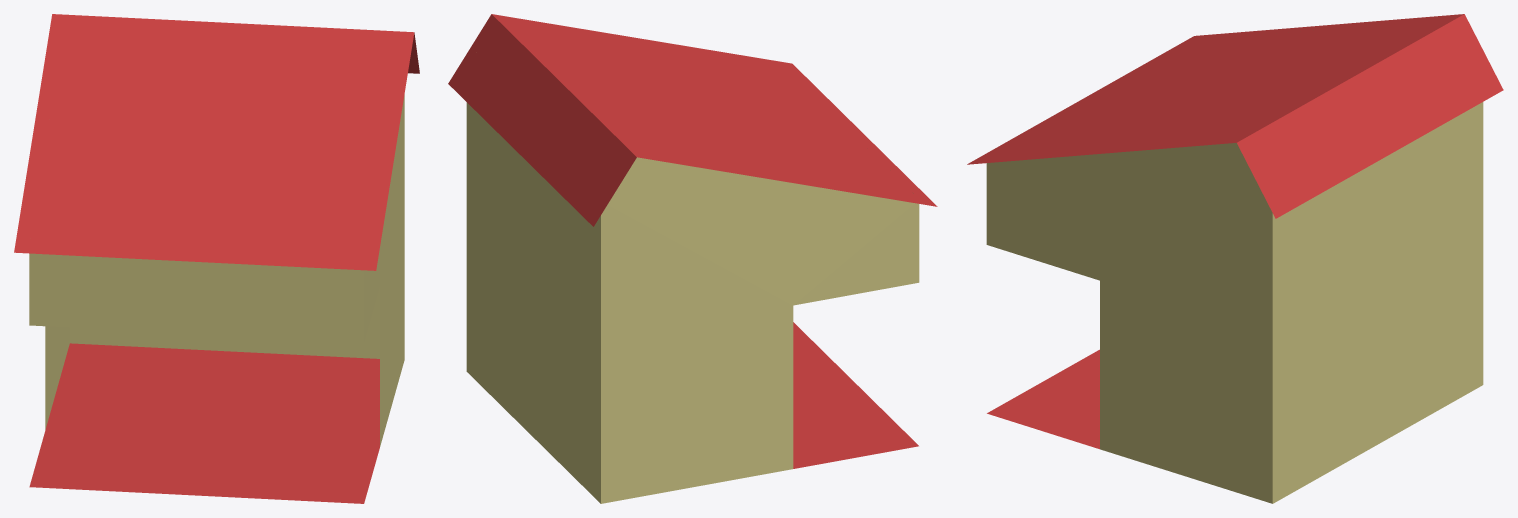
The picture shows the model from 3 angles, left to right: view 1: azimuth 30°, elevation 25°; view 2: azimuth 150°, elevation 25°; view 3: azimuth 270°, elevation 25°; orthographic projection. The views are drawn at different scales.
Size of the model in its own units: 18.52 by 18.56 by 13.62.
